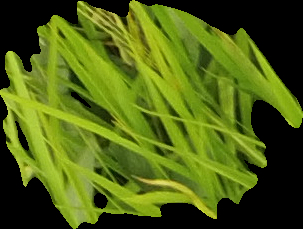grass: (1, 1, 302, 228)
